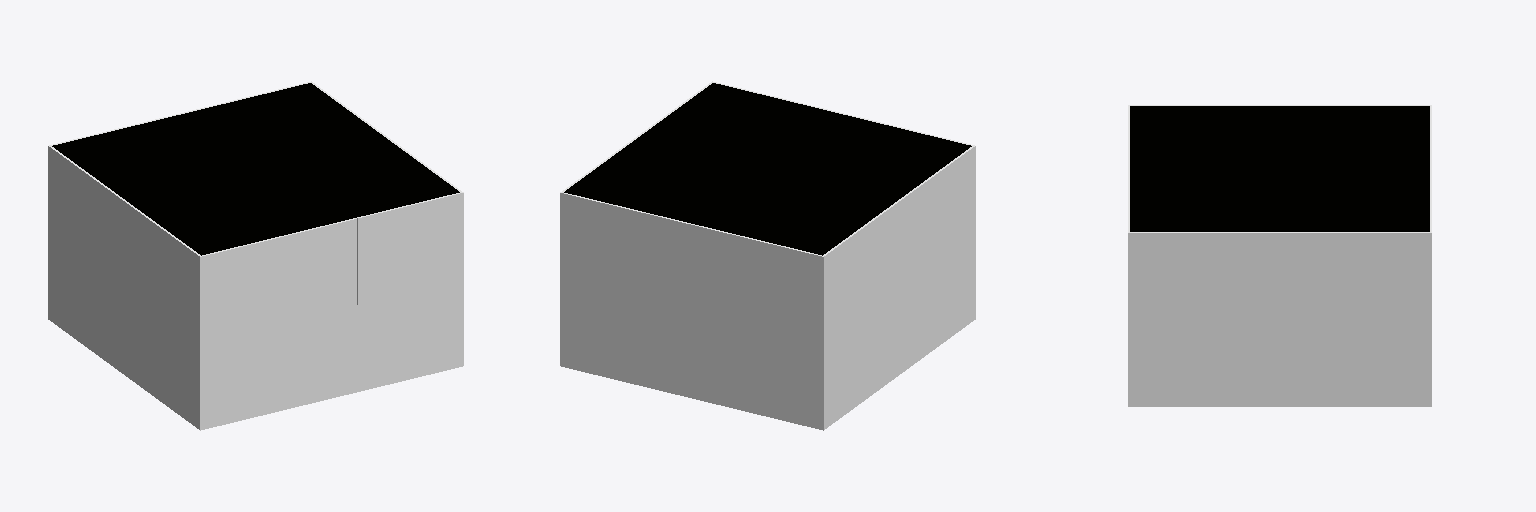
3 views of the same model, side by side, from view 1: azimuth 30°, elevation 25°; view 2: azimuth 150°, elevation 25°; view 3: azimuth 270°, elevation 25° (orthographic).
Parts seen in each view (by area): view 1: Int_Apt_03_Corner_01 (4), Int_Apt_03_Corner_01 (1), Int_Apt_03_Corner_01 (5), Int_Apt_03_Corner_01 (2), Int_Apt_03_Wall_01 (14), Int_Apt_03_Wall_01 (4), Int_Apt_03_Wall_01 (5), Int_Apt_03_Wall_01 (3), Int_Apt_03_Wall_01 (13), Int_Apt_03_Wall_01 (7), Int_Apt_03_Corner_01 (7), Int_Apt_03_Corner_01 (+28 smaller); view 2: Int_Apt_03_Corner_01 (7), Int_Apt_03_Corner_01, Int_Apt_03_Corner_01 (6), Int_Apt_03_Corner_01 (3), Int_Apt_03_Wall_01 (18), EastWallContent (2), Int_Apt_03_Wall_01 (19), Int_Apt_03_Wall_01 (11), EastWallContent, Int_Apt_03_Wall_01 (9), Int_Apt_03_Corner_01 (4), Int_Apt_03_Corner_01 (1) (+28 smaller); view 3: Int_Apt_03_Corner_01 (5), Int_Apt_03_Corner_01 (6), Int_Apt_03_Corner_01 (3), Int_Apt_03_Corner_01 (2), Int_Apt_03_Wall_01 (16), Int_Apt_03_Wall_01 (15), Int_Apt_03_Wall_01 (17), Int_Apt_03_Wall_01 (8), Int_Apt_03_Wall_01 (12), Int_Apt_03_Wall_01 (10), Int_apt_01_Ceiling_01 (2), Int_apt_01_Ceiling_01 (+23 smaller).
Part boxes in pixels (x1,y1,x2,y2): Int_Apt_03_Corner_01 (4): (169,234,253,343); Int_Apt_03_Corner_01 (1): (169,321,253,430); Int_Apt_03_Corner_01 (5): (409,170,463,292); Int_Apt_03_Corner_01 (2): (410,280,463,378); Int_Apt_03_Wall_01 (14): (357,205,409,304); Int_Apt_03_Wall_01 (4): (254,230,305,330); Int_Apt_03_Wall_01 (5): (358,293,409,391); Int_Apt_03_Wall_01 (3): (254,318,305,416); Int_Apt_03_Wall_01 (13): (305,218,356,317); Int_Apt_03_Wall_01 (7): (306,307,356,401); Int_Apt_03_Corner_01 (7): (48,133,102,254); Int_Apt_03_Corner_01: (48,233,78,341); Int_Apt_03_Corner_01 (7): (770,234,854,343); Int_Apt_03_Corner_01: (770,321,854,430); Int_Apt_03_Corner_01 (6): (560,170,614,292); Int_Apt_03_Corner_01 (3): (560,280,613,378); Int_Apt_03_Wall_01 (18): (614,205,666,304); EastWallContent (2): (666,218,718,317); Int_Apt_03_Wall_01 (19): (718,230,769,330); Int_Apt_03_Wall_01 (11): (614,293,665,391); EastWallContent: (666,305,717,404); Int_Apt_03_Wall_01 (9): (718,318,769,416); Int_Apt_03_Corner_01 (4): (921,133,975,254); Int_Apt_03_Corner_01 (1): (945,233,975,341); Int_Apt_03_Corner_01 (5): (1128,207,1189,319); Int_Apt_03_Corner_01 (6): (1370,207,1431,319); Int_Apt_03_Corner_01 (3): (1370,320,1431,406); Int_Apt_03_Corner_01 (2): (1128,320,1189,406); Int_Apt_03_Wall_01 (16): (1310,232,1369,319); Int_Apt_03_Wall_01 (15): (1190,232,1249,319); Int_Apt_03_Wall_01 (17): (1250,232,1309,319); Int_Apt_03_Wall_01 (8): (1190,320,1249,406); Int_Apt_03_Wall_01 (12): (1250,320,1309,406); Int_Apt_03_Wall_01 (10): (1310,320,1369,406); Int_apt_01_Ceiling_01 (2): (1370,156,1429,181); Int_apt_01_Ceiling_01: (1250,156,1309,181).
Bounding box in the file's own units: 12.7 × 8 × 12.7.
Materials: 9 (5 with a texture image).